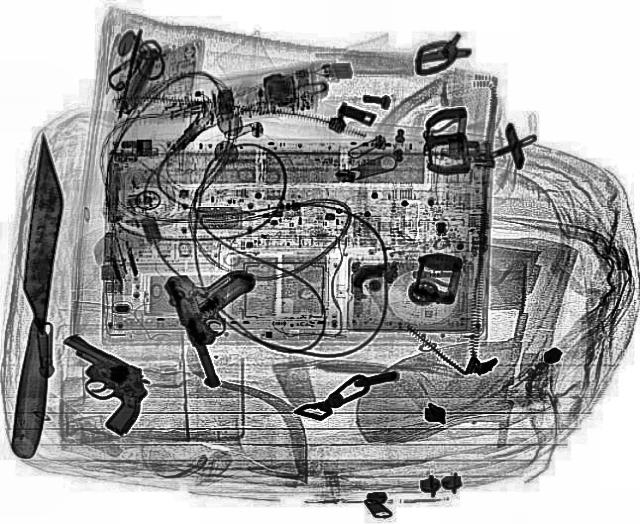Gun: (158, 258, 292, 389), (22, 329, 170, 435)
Knife: (8, 132, 68, 458)
